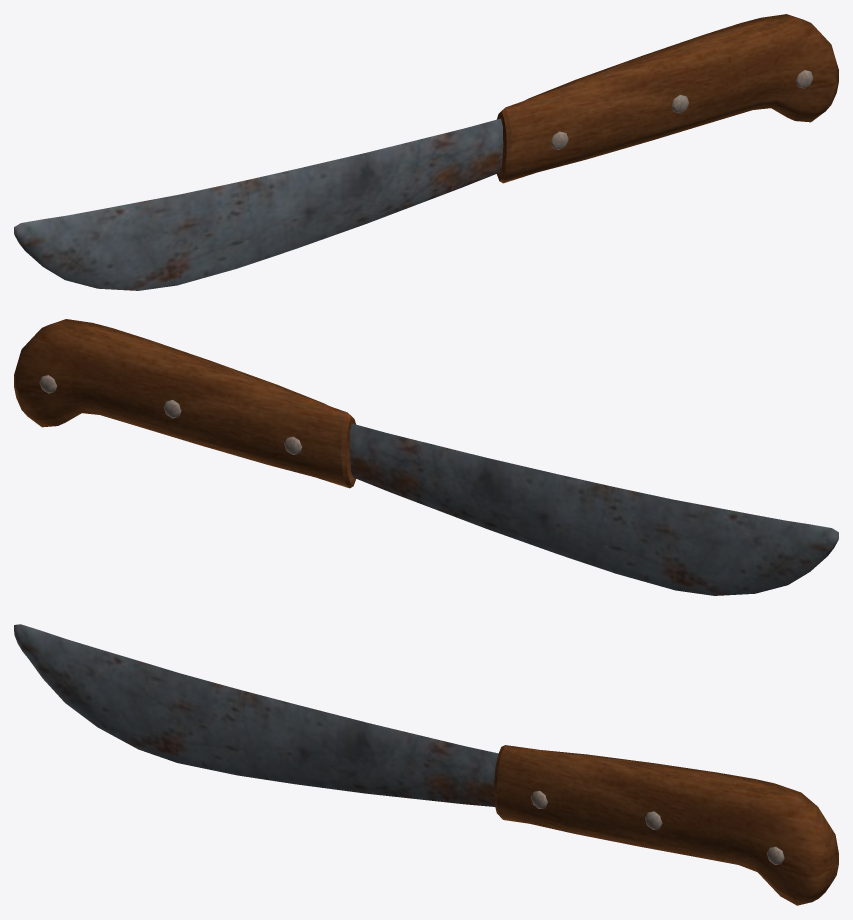
The model's file is machete.glb.
3 renders of one model, top to bottom at view 1: azimuth 30°, elevation 25°; view 2: azimuth 150°, elevation 25°; view 3: azimuth 330°, elevation 25°, orthographic.
Parts seen in each view (by area): view 1: tool; view 2: tool; view 3: tool.
Part boxes in pixels (x1,y1,x2,y2): tool: (14,14,838,290); tool: (14,319,838,595); tool: (14,624,838,905).
Size of the model in its own units: 0.4747 by 0.0667 by 0.0319.
Materials: 1 (1 with a texture image).
